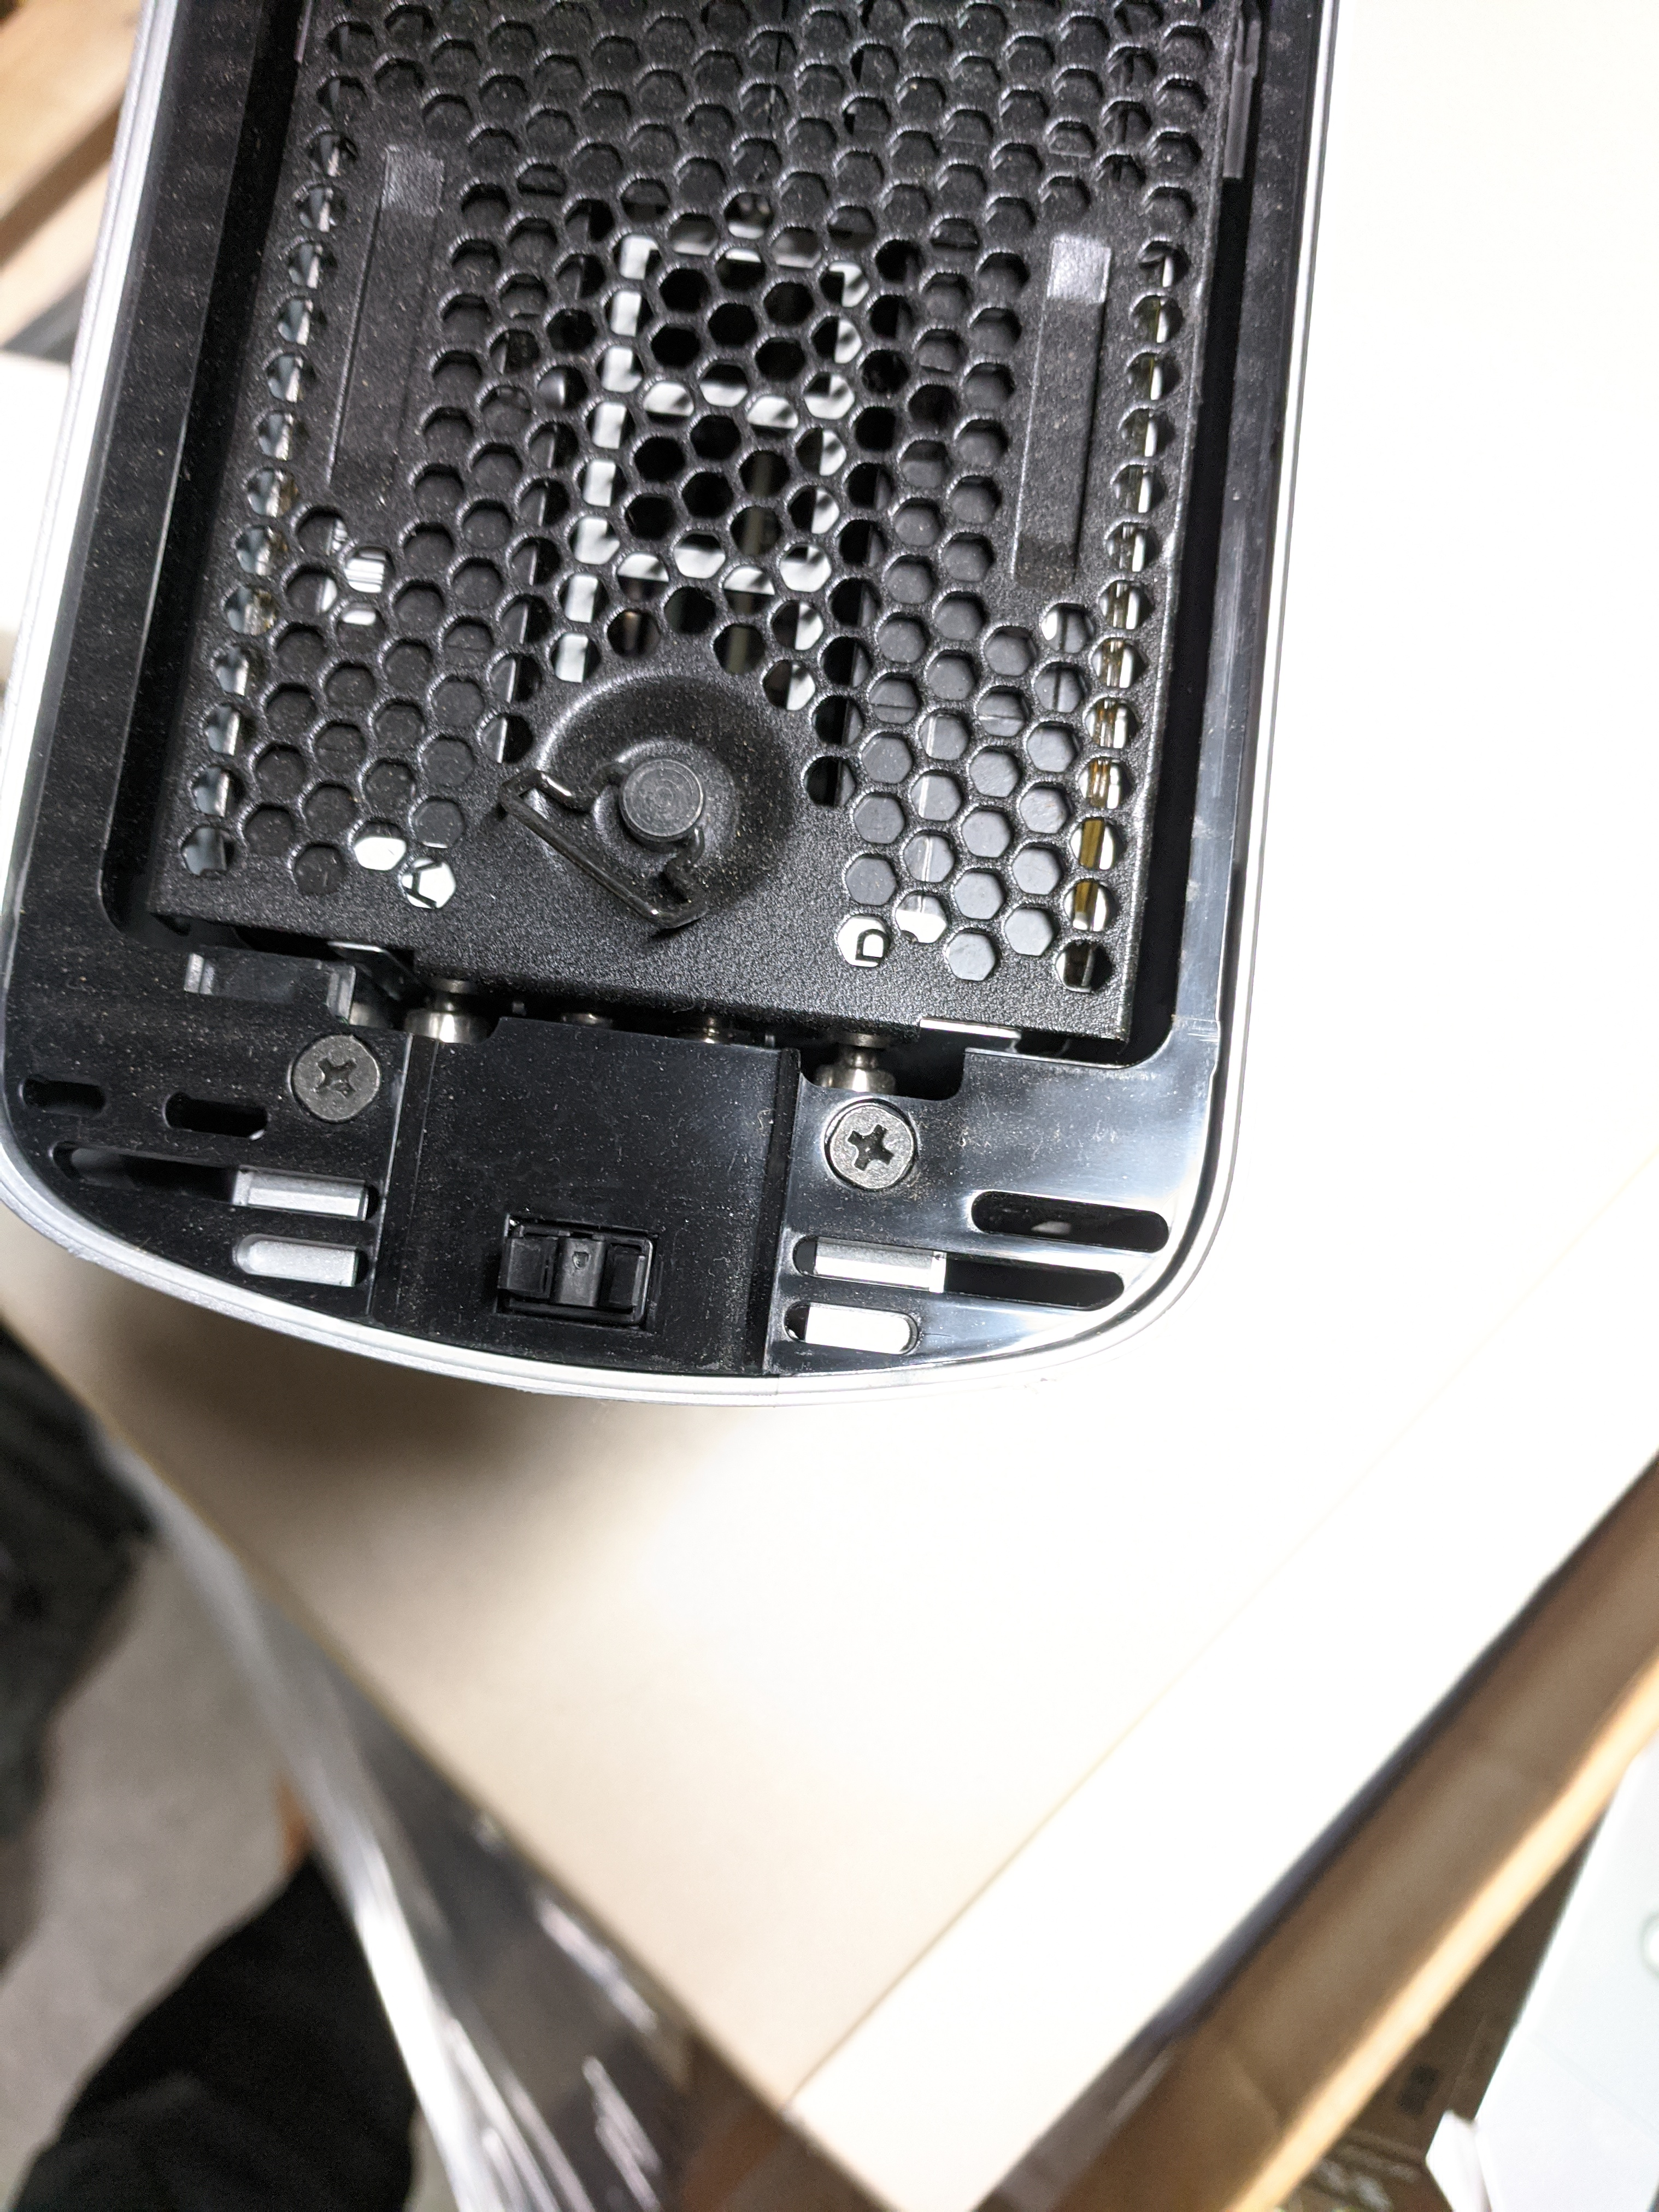cross_recessed_screw: (810, 1080, 929, 1202), (274, 1017, 390, 1129)
